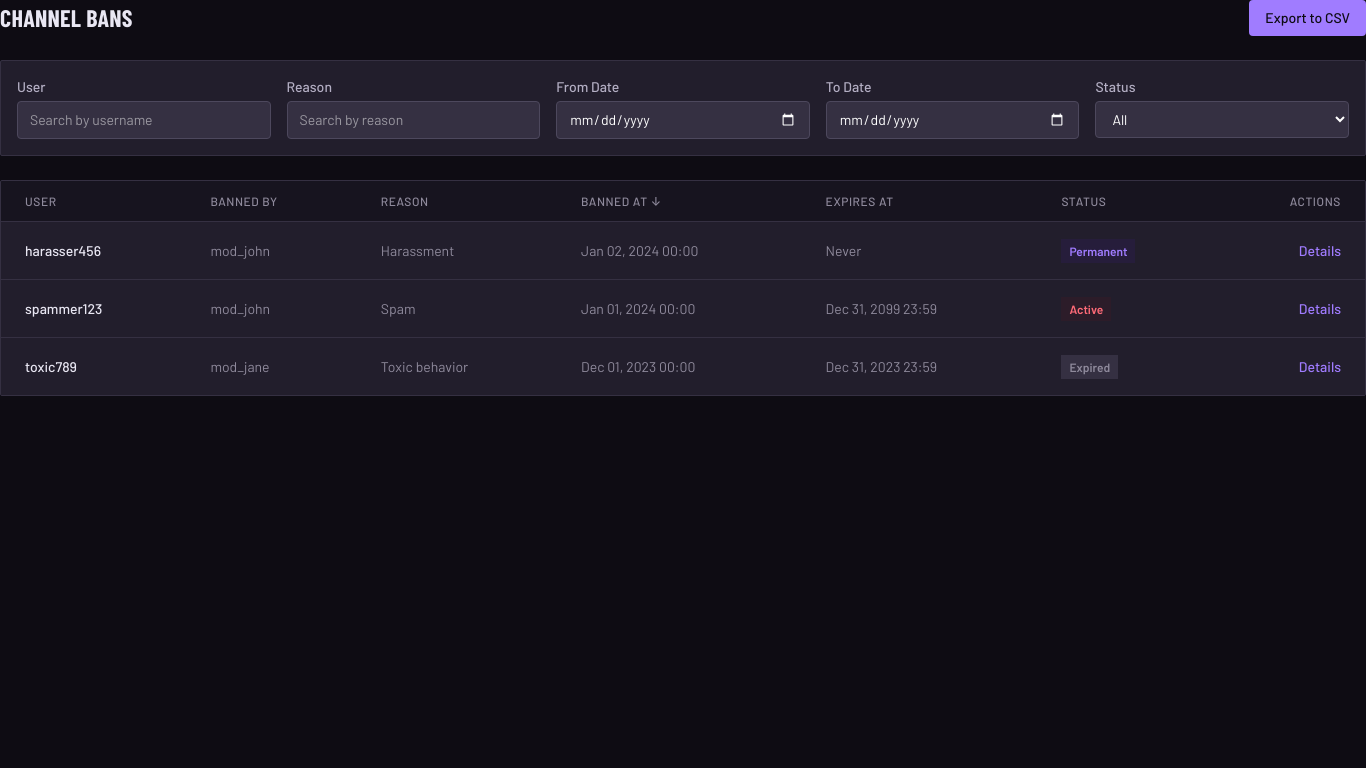
Test: BanListViewer › View Details › opens details modal when details button is clicked
This screenshot has width=1366, height=768.
expect the text "spammer123" is shown: met, box top-left (1, 280), bottom-right (186, 338)
Click the button "Details" in the row of "harasser456" at (1320, 250), box top-left (1299, 240), bottom-right (1341, 260)
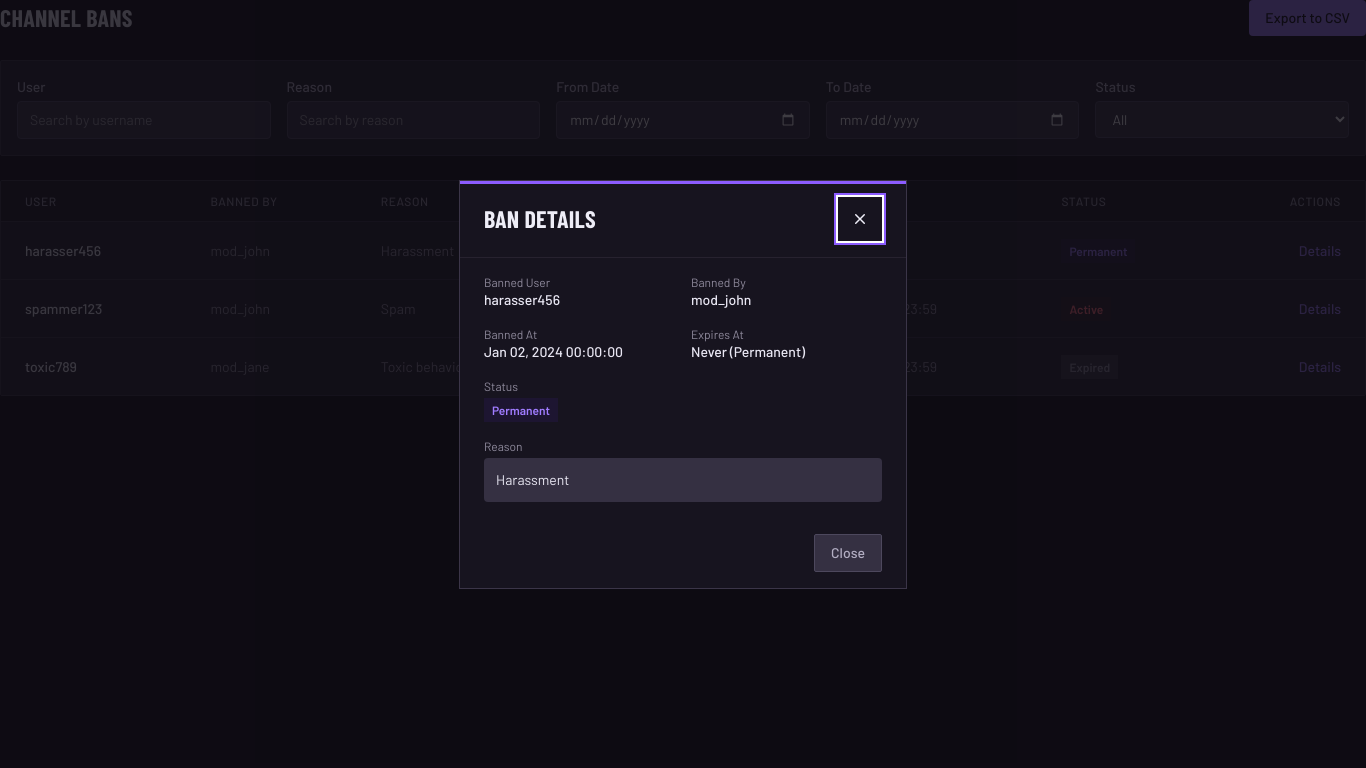
expect the heading "Ban Details" is shown: met, box top-left (484, 202), bottom-right (596, 234)
